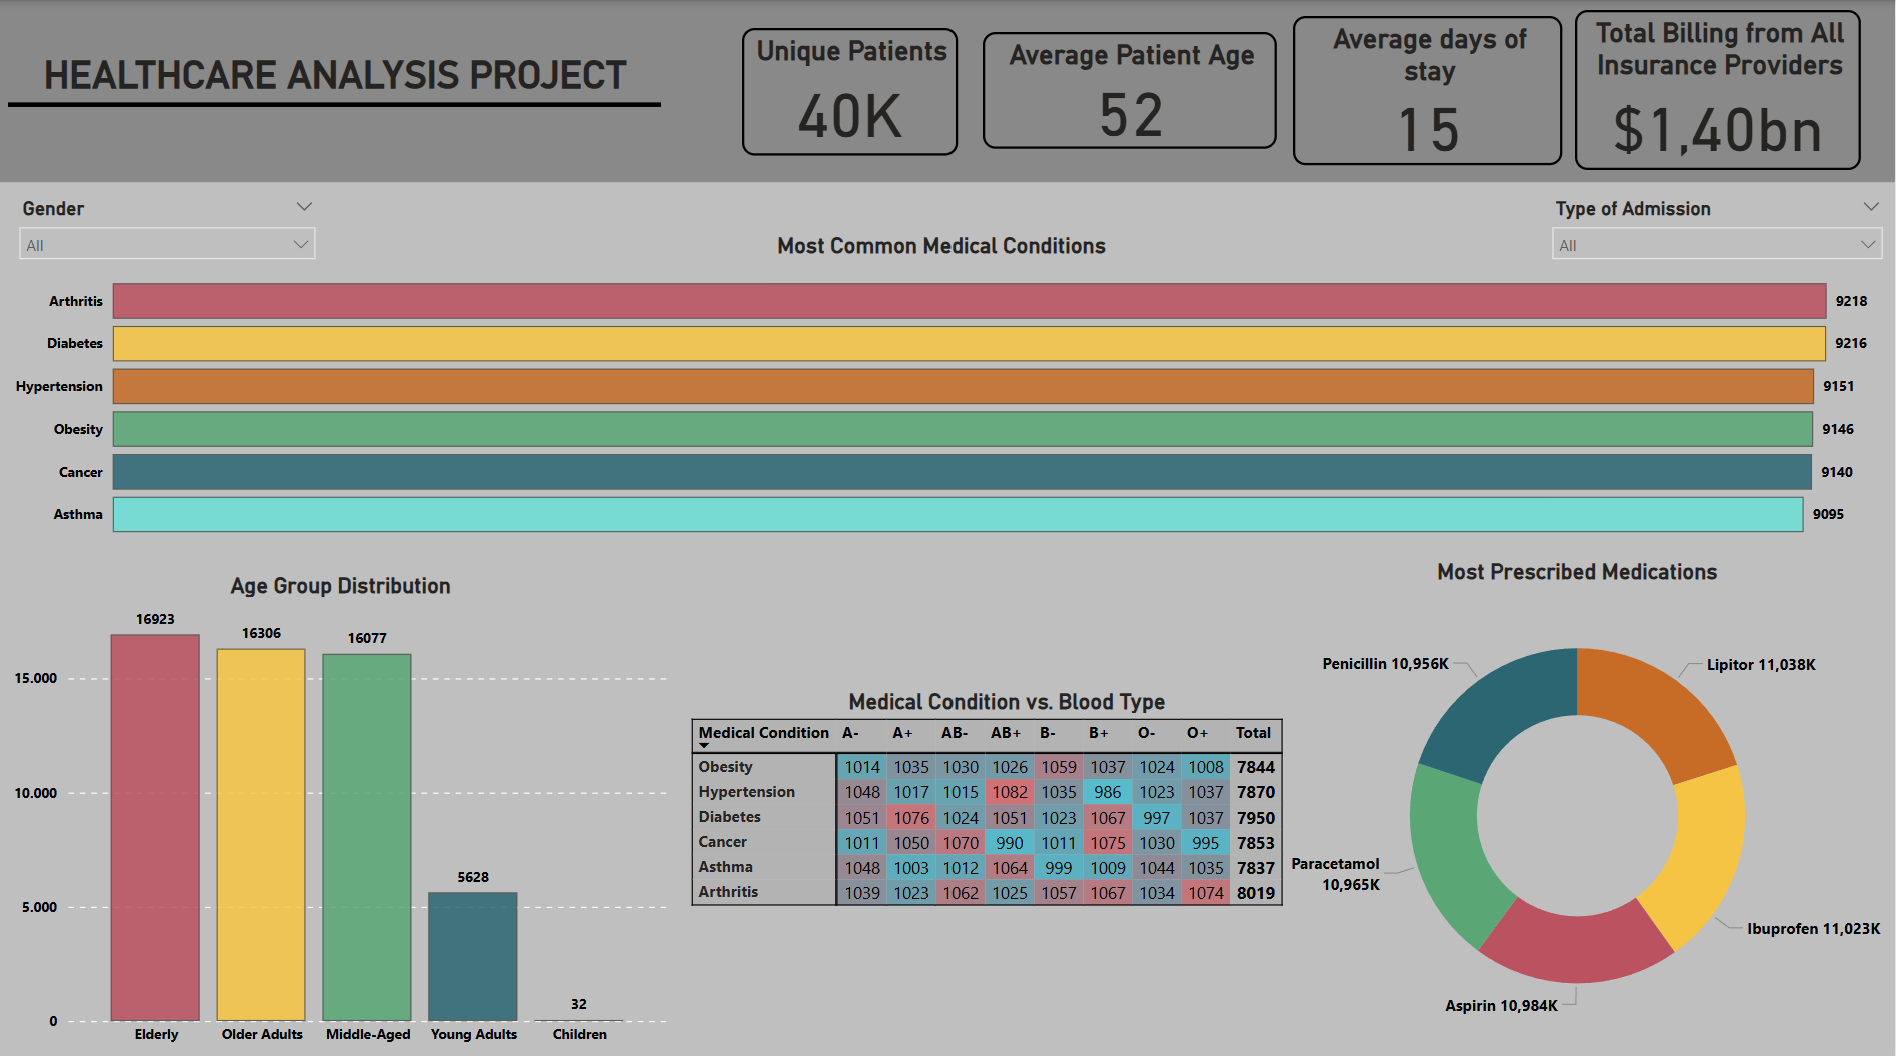

This screenshot's page, from the dashboard's own definition file:
{"tool":"powerbi","page":{"name":"Overview Dashboard","canvas":[1664,936],"ordinal":0},"visuals":[{"type":"columnChart","title":"Age Group Distribution","fields":{"Category":["healthcare_dataset_final.age_group"],"Y":["healthcare_dataset_final.age_group"]},"box":[8.6,501.4,584.3,424.3],"z":0},{"type":"donutChart","title":"Most Prescribed Medications","fields":{"Category":["healthcare_dataset_final.medication"],"Y":["Measure Table.Prescribed Count"]},"box":[1108.6,490,555.7,435.7],"z":1000},{"type":"clusteredBarChart","title":"Most Common Medical Conditions","fields":{"Category":["healthcare_dataset_final.medical_condition"],"Y":["healthcare_dataset_final.medical_condition"]},"box":[8.6,204.3,1638.6,284.3],"z":2000},{"type":"pivotTable","title":"Medical Condition vs. Blood Type","fields":{"Rows":["healthcare_dataset_final.medical_condition"],"Columns":["healthcare_dataset_final.blood_type"],"Values":["healthcare_dataset_final.name"]},"box":[604.3,604.3,562.9,208.6],"z":3000},{"type":"card","title":"Total Billing from All Insurance Providers","fields":{"Values":["healthcare_dataset_final.billing_amount"]},"box":[1383.1,9.5,250.9,140.3],"z":4000},{"type":"textbox","box":[35,40.4,545.8,61.6],"z":5000},{"type":"shape","box":[8.4,70.9,573.3,43.3],"z":6000},{"type":"card","title":"Unique Patients","fields":{"Values":["Measure Table.Total Patients"]},"box":[652.9,23.8,189.1,111.8],"z":7000},{"type":"card","title":"Average Patient Age","fields":{"Values":["healthcare_dataset_final.age"]},"box":[864.6,28.5,258.1,102.3],"z":8000},{"type":"card","title":"Average days of stay","fields":{"Values":["Measure Table.Average_Stay"]},"box":[1135.7,14.3,236.7,130.8],"z":9000},{"type":"slicer","fields":{"Values":["healthcare_dataset_final.gender"]},"box":[8.6,168.6,280,70],"z":10000},{"type":"slicer","fields":{"Values":["healthcare_dataset_final.admission_type"]},"box":[1354.3,168.6,310,71.4],"z":11000}]}

Visuals, with their boxes in screenshot pixels (x1, y1, x2, y2), scaled from the page's 1664x936 canvas onto the 1896x1056 screenshot:
"Age Group Distribution" columnChart: bbox(10, 566, 676, 1044)
"Most Prescribed Medications" donutChart: bbox(1263, 553, 1895, 1044)
"Most Common Medical Conditions" clusteredBarChart: bbox(10, 230, 1877, 551)
"Medical Condition vs. Blood Type" pivotTable: bbox(689, 682, 1330, 917)
"Total Billing from All Insurance Providers" card: bbox(1576, 11, 1862, 169)
textbox: bbox(40, 46, 662, 115)
shape: bbox(10, 80, 663, 129)
"Unique Patients" card: bbox(744, 27, 959, 153)
"Average Patient Age" card: bbox(985, 32, 1279, 148)
"Average days of stay" card: bbox(1294, 16, 1564, 164)
slicer - healthcare_dataset_final.gender: bbox(10, 190, 329, 269)
slicer - healthcare_dataset_final.admission_type: bbox(1543, 190, 1895, 271)
